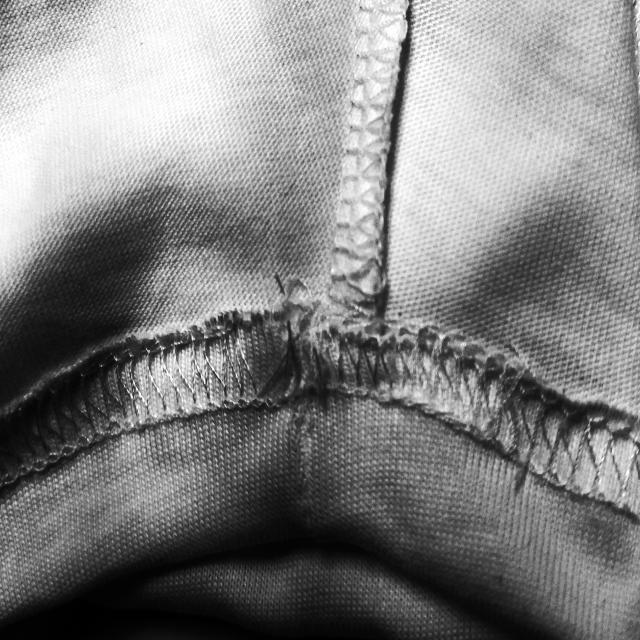Sewing_error: (211, 288, 348, 417)
